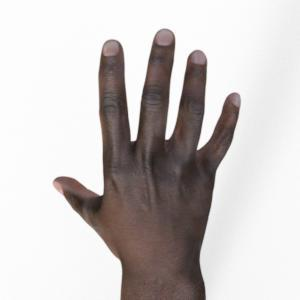paper: (54, 29, 240, 300)
